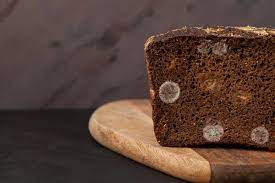mold_bread: (195, 40, 231, 58), (157, 79, 182, 104), (201, 121, 226, 145), (250, 125, 272, 148)
